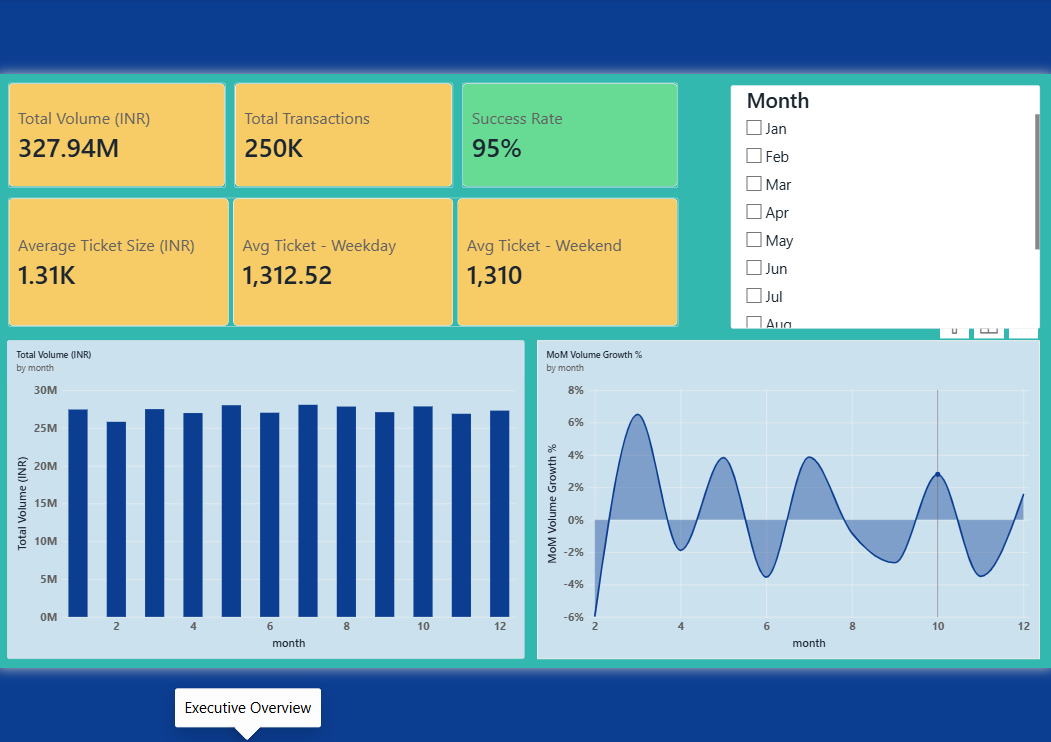

What the dashboard file says about the page in this screenshot:
{"tool":"powerbi","page":{"name":"Executive Overview","canvas":[1920,1080],"ordinal":0},"visuals":[{"type":"cardVisual","fields":{"Data":["_Measures.Total Volume (INR)"]},"box":[20.5,15.9,395.5,190.9],"z":0},{"type":"cardVisual","fields":{"Data":["_Measures.Total Transactions"]},"box":[431.8,15.9,397.7,190.9],"z":1000},{"type":"cardVisual","fields":{"Data":["_Measures.Average Ticket Size (INR)","_Measures.Avg Ticket - Weekday","_Measures.Avg Ticket - Weekend"]},"box":[20.5,225,1218.2,234.1],"z":2000},{"type":"cardVisual","fields":{"Data":["_Measures.Success Rate"]},"box":[845.5,15.9,393.2,190.9],"z":3000},{"type":"columnChart","fields":{"Category":["dim_date.month"],"Y":["_Measures.Total Volume (INR)"]},"box":[18.2,484.1,940.9,579.5],"z":4000},{"type":"stackedAreaChart","fields":{"Y":["_Measures.MoM Volume Growth %"],"Category":["dim_date.month"]},"box":[981.8,484.1,913.6,579.5],"z":5000},{"type":"slicer","fields":{"Values":["dim_date.month_name"]},"box":[1334.1,20.5,562,442],"z":6000}]}

Visuals, with their boxes on the page's 1920x1080 design canvas (x1, y1, x2, y2). These are canvas units, not pixel positions in the 1051x742 screenshot, which may show the page scaled, cropped or inside an application window:
cardVisual - _Measures.Total Volume (INR): {"x1": 20, "y1": 16, "x2": 416, "y2": 207}
cardVisual - _Measures.Total Transactions: {"x1": 432, "y1": 16, "x2": 830, "y2": 207}
cardVisual - _Measures.Average Ticket Size (INR) x _Measures.Avg Ticket - Weekday: {"x1": 20, "y1": 225, "x2": 1239, "y2": 459}
cardVisual - _Measures.Success Rate: {"x1": 846, "y1": 16, "x2": 1239, "y2": 207}
columnChart - dim_date.month x _Measures.Total Volume (INR): {"x1": 18, "y1": 484, "x2": 959, "y2": 1064}
stackedAreaChart - _Measures.MoM Volume Growth % x dim_date.month: {"x1": 982, "y1": 484, "x2": 1895, "y2": 1064}
slicer - dim_date.month_name: {"x1": 1334, "y1": 20, "x2": 1896, "y2": 462}
